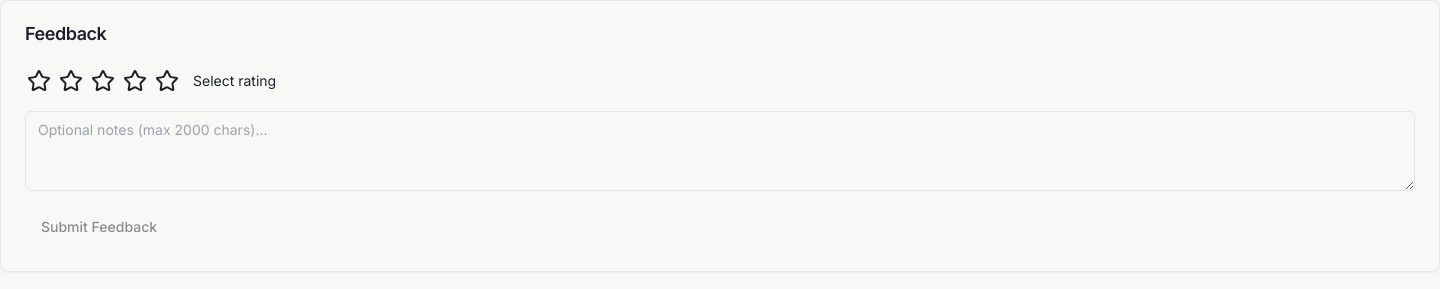
Test: FeedbackForm › enables submit after clicking a star
Note: Click the 4th star button
Click the 4th button at x=135, y=81, box [121,67,149,95]
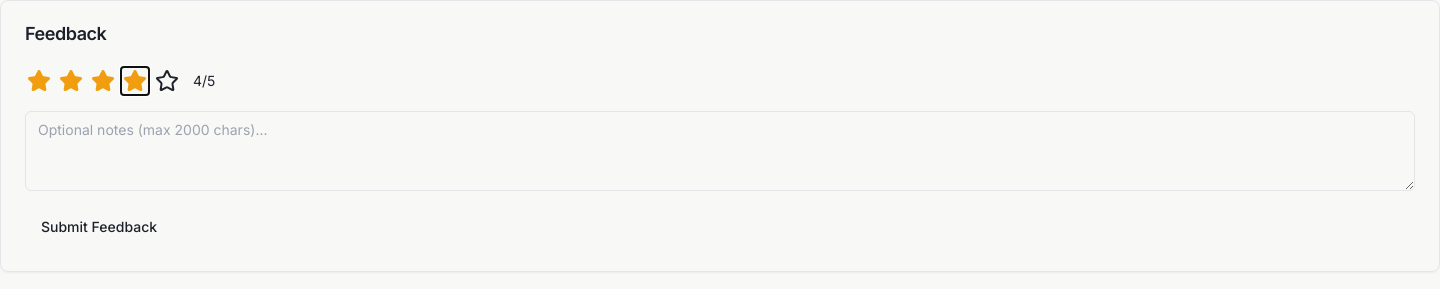
Now the text "4/5" is shown, box [193,71,215,91]
Now the button "Submit Feedback" is enabled, box [25,207,173,247]
